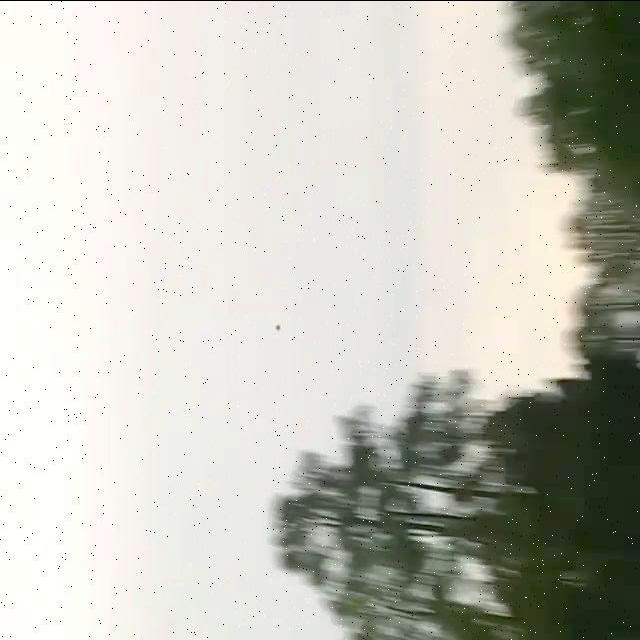golf ball: (275, 323, 281, 330)
